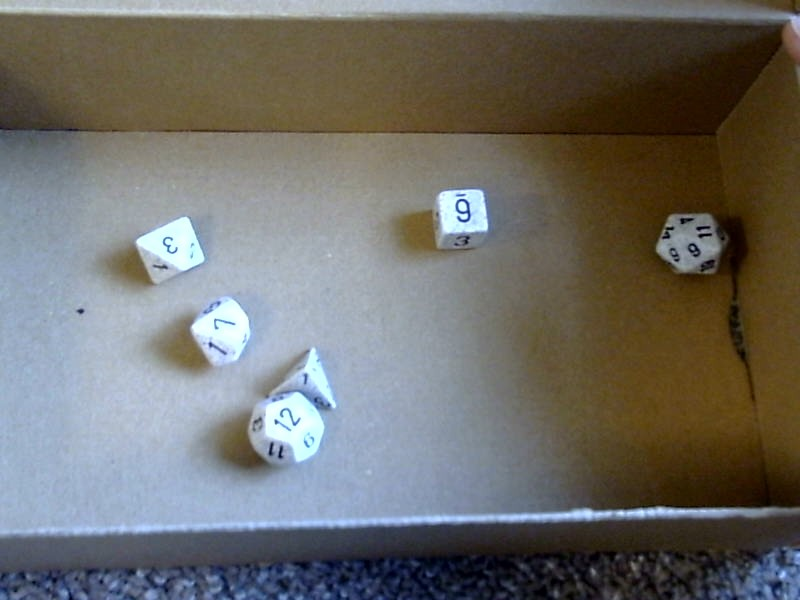d10 7: (190, 298, 253, 369)
d12 12: (245, 391, 320, 469)
d20 11: (649, 205, 735, 280)
d4 1: (268, 343, 340, 403)
d6 6: (425, 184, 495, 253)
d8 3: (129, 215, 208, 286)
